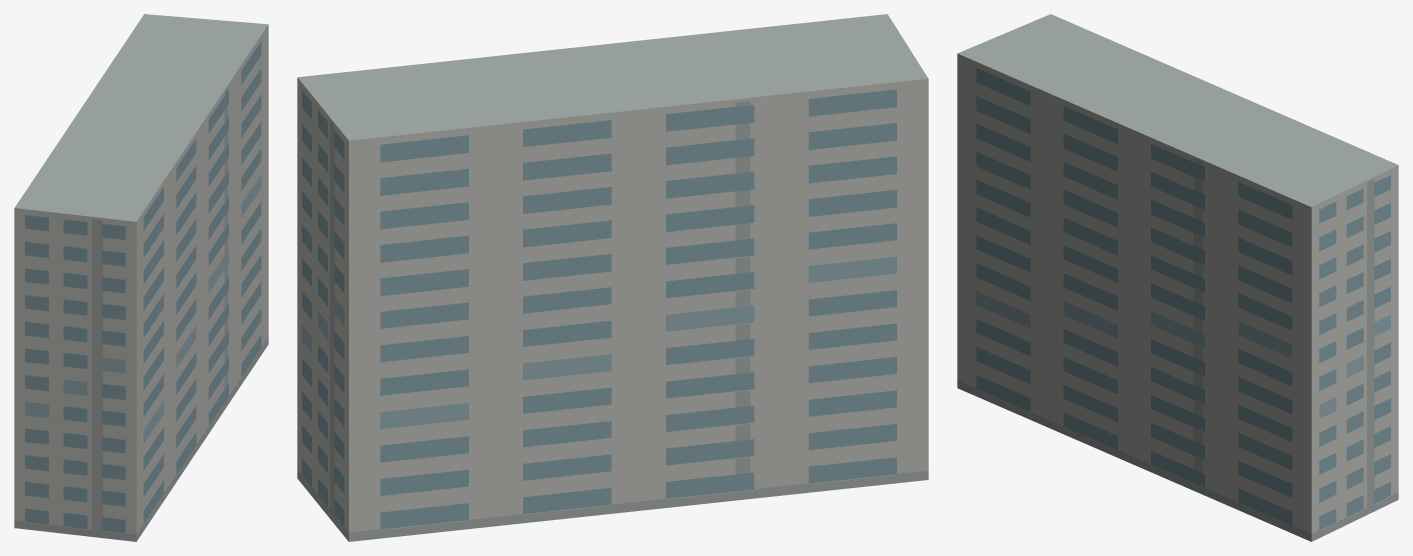
File: residential-c5795b88-cd1a-4de1-a73e-7bbe8e7a7dd0.glb
3 renders of one model, left to right at view 1: azimuth 30°, elevation 25°; view 2: azimuth 150°, elevation 25°; view 3: azimuth 270°, elevation 25°, orthographic. The views are drawn at different scales.
Visible parts, largest first — view 1: residential-c5795b88-cd1a-4de1-a73e-7bbe8e7a7dd0.tmp; view 2: residential-c5795b88-cd1a-4de1-a73e-7bbe8e7a7dd0.tmp; view 3: residential-c5795b88-cd1a-4de1-a73e-7bbe8e7a7dd0.tmp.
Boxes of the visible parts, x1,y1,x2,y2 form: residential-c5795b88-cd1a-4de1-a73e-7bbe8e7a7dd0.tmp: (14, 14, 268, 541); residential-c5795b88-cd1a-4de1-a73e-7bbe8e7a7dd0.tmp: (297, 14, 928, 541); residential-c5795b88-cd1a-4de1-a73e-7bbe8e7a7dd0.tmp: (957, 14, 1398, 541).
Bounding box in the file's own units: 43.35 × 35 × 41.83.
